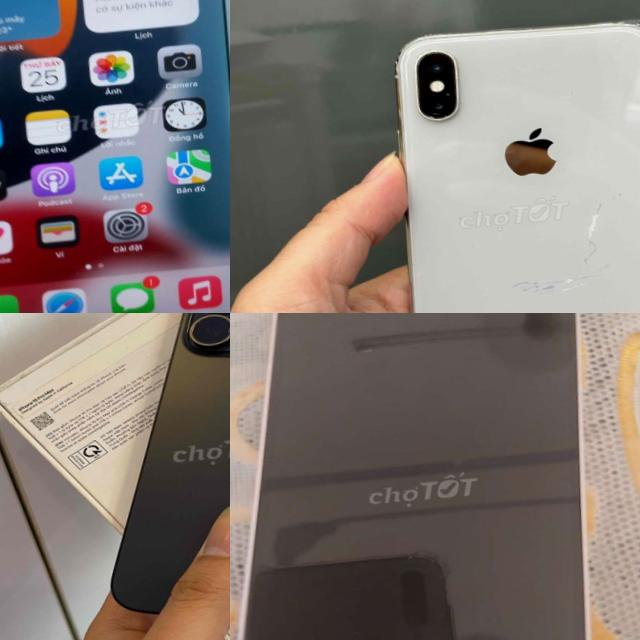gen_12_13: (230, 313, 626, 640)
gen_15: (66, 313, 230, 640)
gen_7_8: (0, 0, 230, 313)
gen_x_xs: (396, 23, 640, 313)
